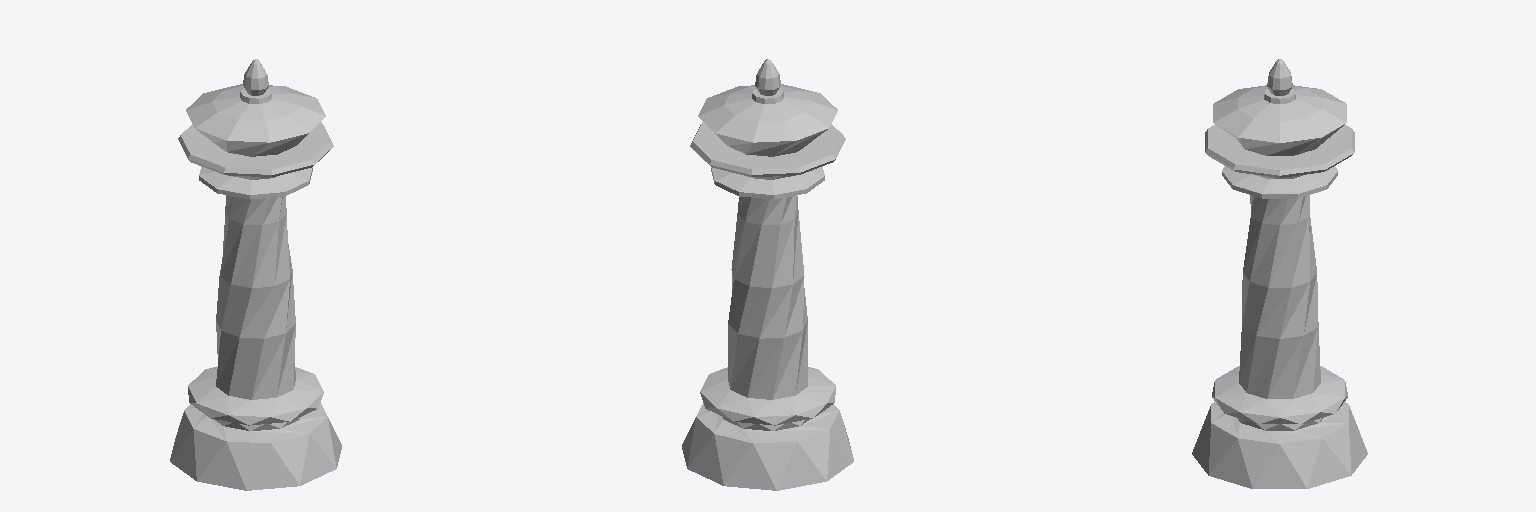
File: Queen.obj
3 views of the same model, side by side, from view 1: azimuth 30°, elevation 25°; view 2: azimuth 150°, elevation 25°; view 3: azimuth 270°, elevation 25° (orthographic).
Visible parts, largest first — view 1: Icosphere.002; view 2: Icosphere.002; view 3: Icosphere.002.
Boxes of the visible parts, x1,y1,x2,y2 form: Icosphere.002: [170, 59, 341, 490]; Icosphere.002: [682, 59, 853, 490]; Icosphere.002: [1192, 59, 1367, 488].
Bounding box in the file's own units: 0.7989 × 2.08 × 0.84.